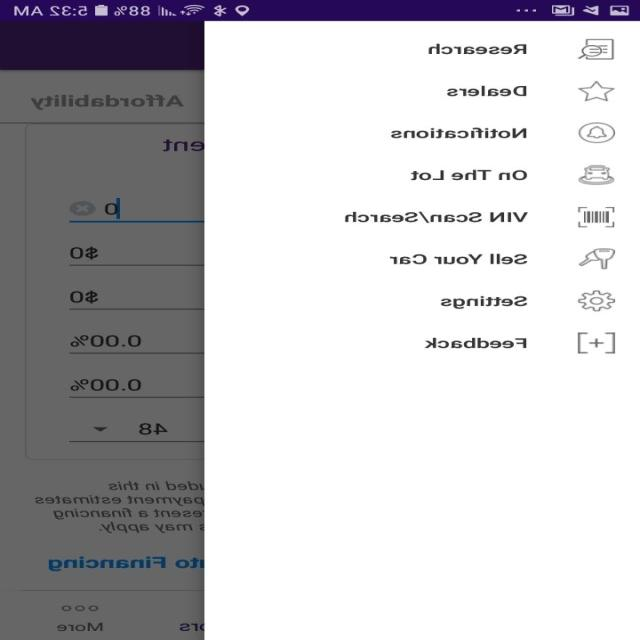Drawer: (205, 21, 640, 639)
Icon: (578, 332, 616, 354), (578, 290, 616, 312), (578, 80, 616, 102), (578, 122, 616, 143), (578, 38, 614, 60)
Image: (578, 206, 616, 228), (578, 248, 616, 269), (578, 164, 616, 185)
Text: (345, 211, 529, 223), (390, 252, 528, 264), (391, 126, 527, 138), (411, 168, 528, 180), (428, 42, 528, 54), (424, 337, 527, 348), (441, 296, 528, 309), (447, 85, 527, 97)
